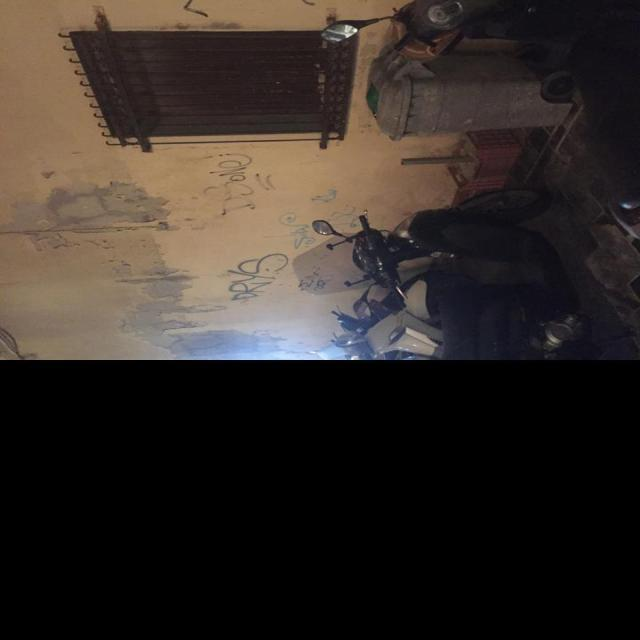nonspitting: (202, 153, 274, 215), (230, 252, 288, 300), (312, 188, 357, 228), (280, 212, 315, 249), (299, 266, 327, 294)
